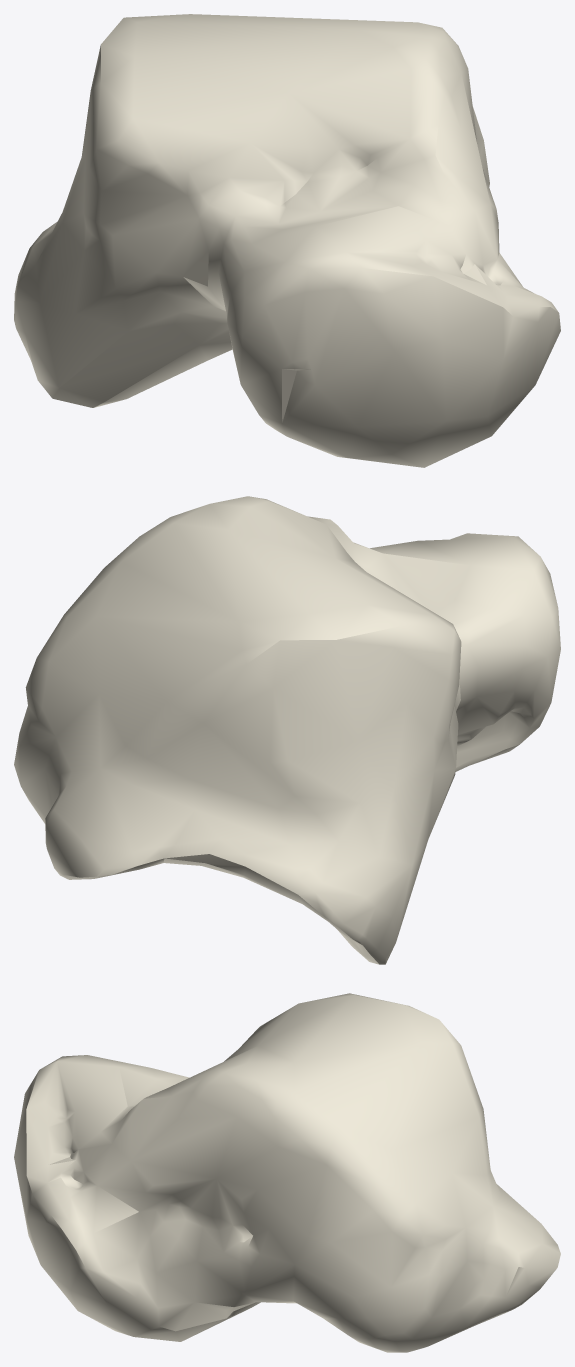
The model's file is fma24482_fj3385.glb.
3 views of the same model, one above another, from view 1: azimuth 30°, elevation 25°; view 2: azimuth 150°, elevation 25°; view 3: azimuth 270°, elevation 25° (orthographic). The views are drawn at different scales.
Visible parts, largest first — view 1: FMA24482_FJ3385; view 2: FMA24482_FJ3385; view 3: FMA24482_FJ3385.
Boxes of the visible parts, x1,y1,x2,y2 form: FMA24482_FJ3385: (14, 14, 560, 467); FMA24482_FJ3385: (14, 496, 560, 964); FMA24482_FJ3385: (14, 993, 560, 1352).
Size of the model in its own units: 0.0405 by 0.0343 by 0.0568.
